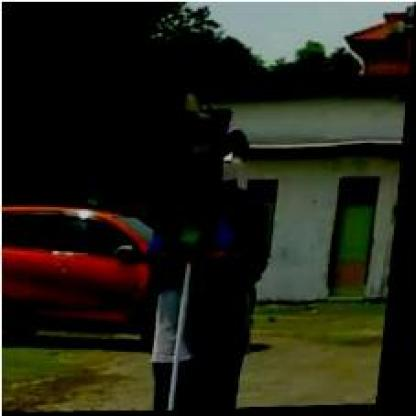green: (156, 107, 233, 256)
